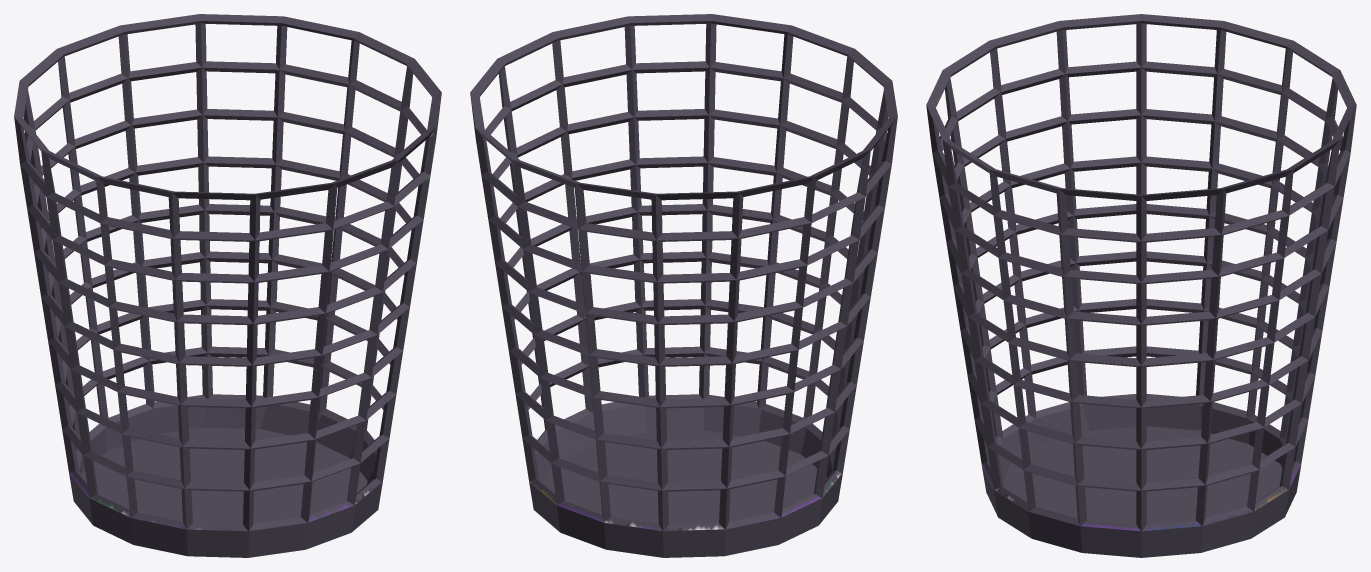
File: Lixeira.fbx
The picture shows the model from 3 angles, left to right: view 1: azimuth 30°, elevation 25°; view 2: azimuth 150°, elevation 25°; view 3: azimuth 270°, elevation 25°; orthographic projection.
Visible parts, largest first — view 1: Lixeira; view 2: Lixeira; view 3: Lixeira.
Boxes of the visible parts, x1=… form: Lixeira: x1=14, y1=14, x2=441, y2=557; Lixeira: x1=470, y1=14, x2=897, y2=557; Lixeira: x1=926, y1=14, x2=1356, y2=557.
Bounding box in the file's own units: 204 × 203 × 204.
